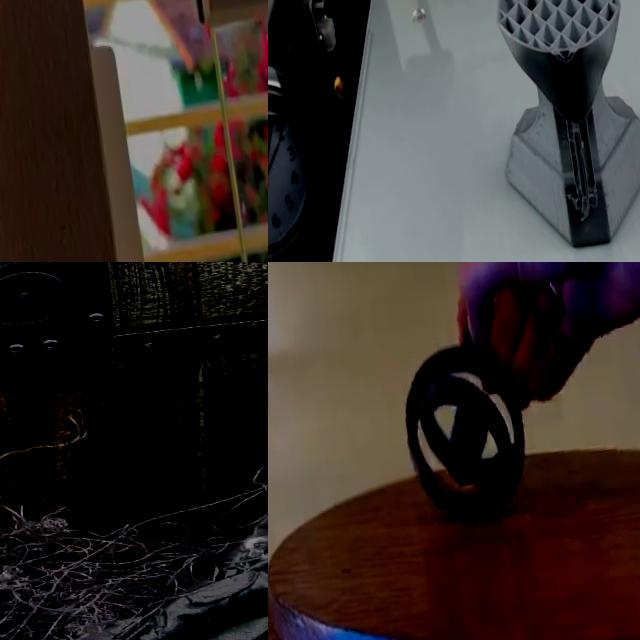spaghetti: (0, 427, 233, 640)
